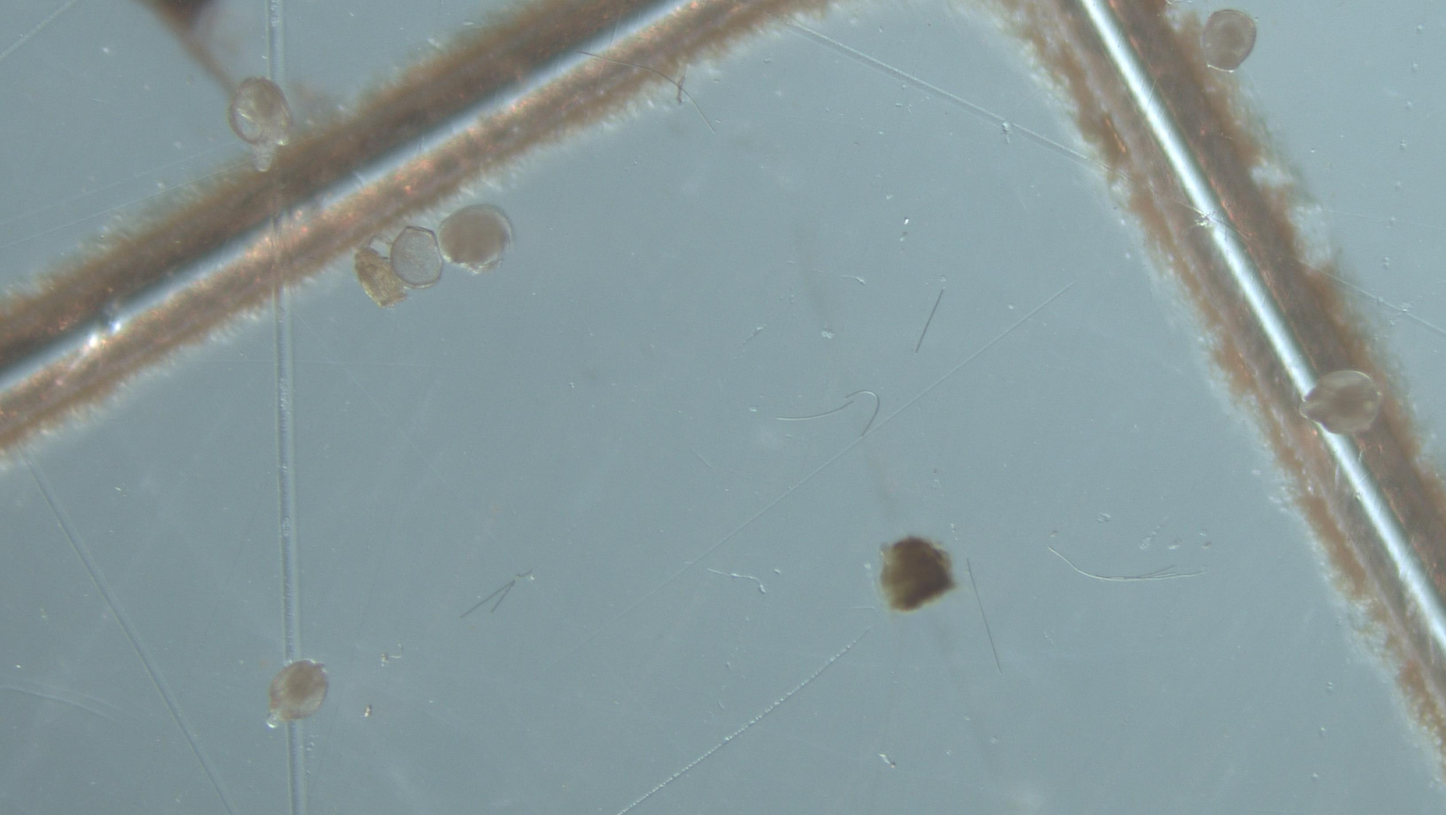dead: (390, 226, 444, 289)
live: (229, 78, 293, 171), (1300, 369, 1383, 436), (438, 205, 512, 273), (268, 660, 328, 722), (1200, 10, 1257, 71)
